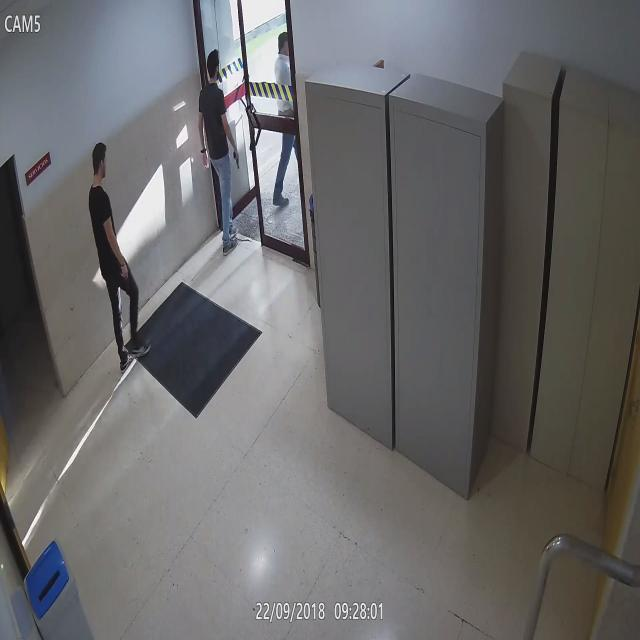Gun: (231, 147, 245, 173)
